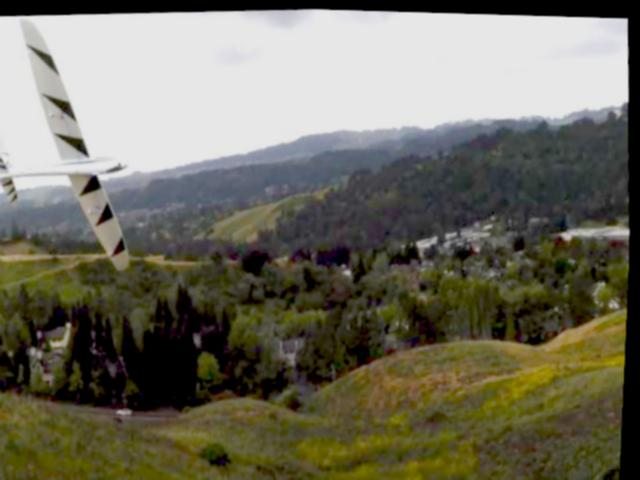iha: (0, 13, 145, 278)
